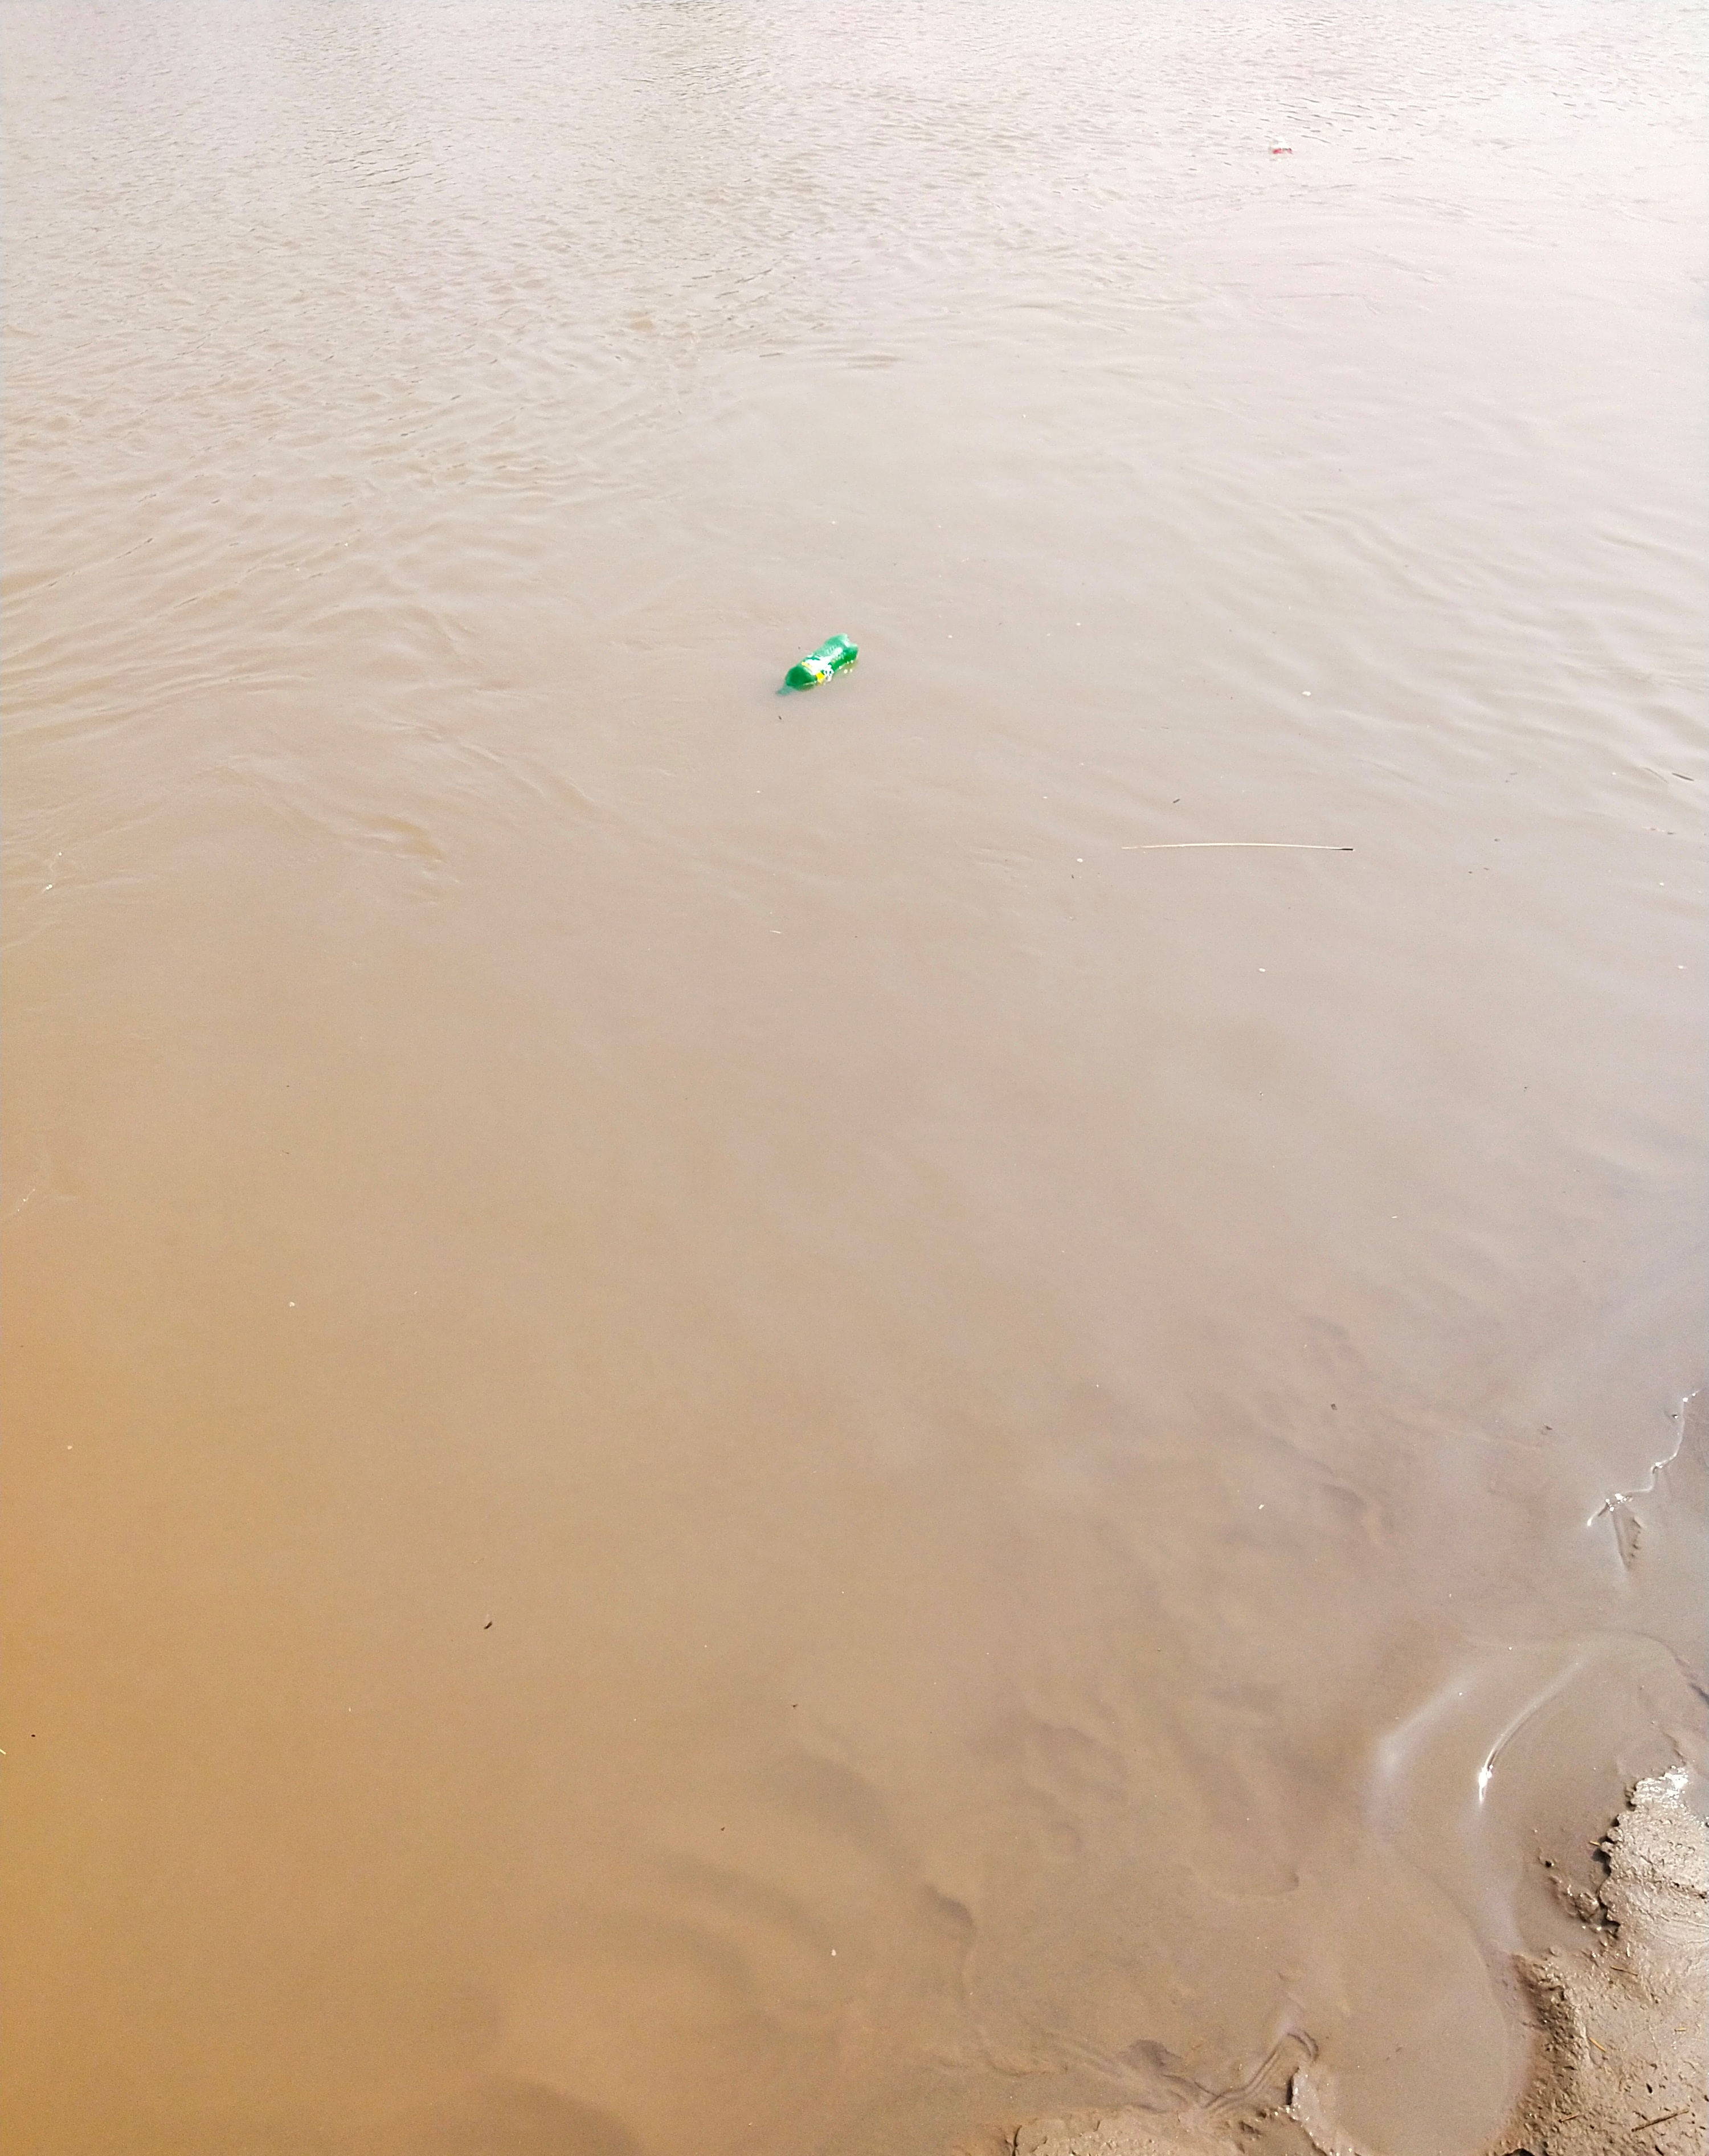Plastic Bottle: (775, 632, 857, 697), (1268, 135, 1291, 154)
